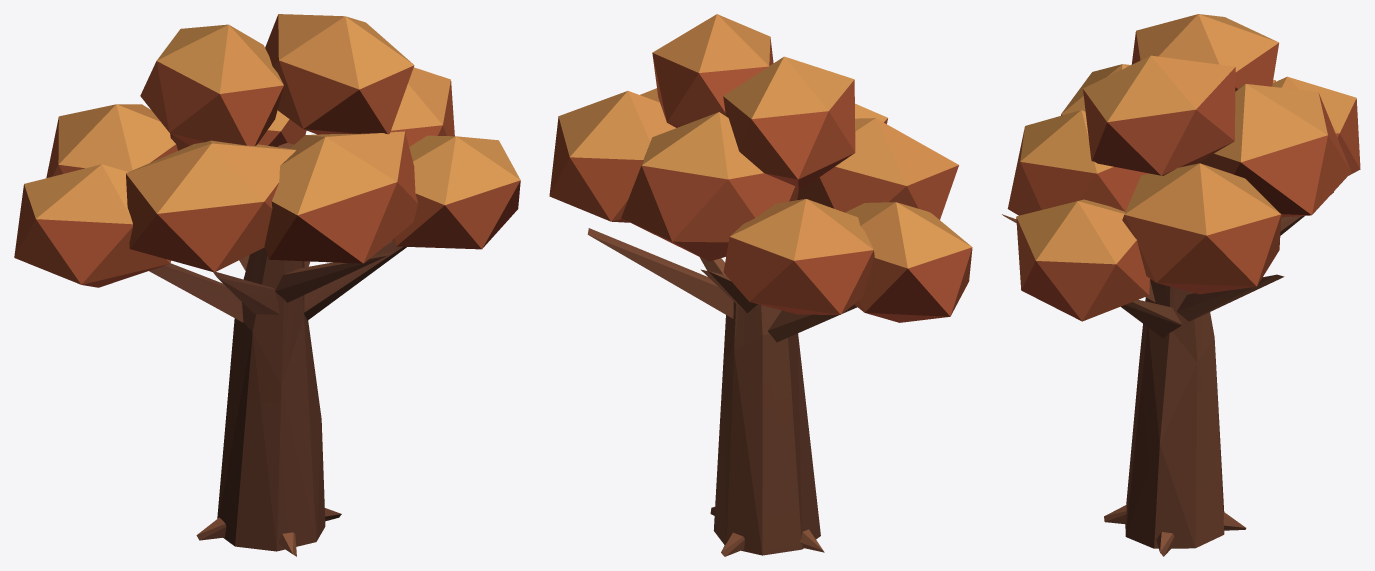
3 views of the same model, side by side, from view 1: azimuth 30°, elevation 25°; view 2: azimuth 150°, elevation 25°; view 3: azimuth 270°, elevation 25° (orthographic). The views are drawn at different scales.
Visible parts, largest first — view 1: WK_Tree_Maple_EmberCrown_LOD1_Balanced; view 2: WK_Tree_Maple_EmberCrown_LOD1_Balanced; view 3: WK_Tree_Maple_EmberCrown_LOD1_Balanced.
Part boxes in pixels (left/top/right/bottom): WK_Tree_Maple_EmberCrown_LOD1_Balanced: left=14, top=14, right=520, bottom=556; WK_Tree_Maple_EmberCrown_LOD1_Balanced: left=549, top=14, right=972, bottom=556; WK_Tree_Maple_EmberCrown_LOD1_Balanced: left=1002, top=14, right=1360, bottom=556.
Size of the model in its own units: 4.9 by 5.62 by 3.63.
